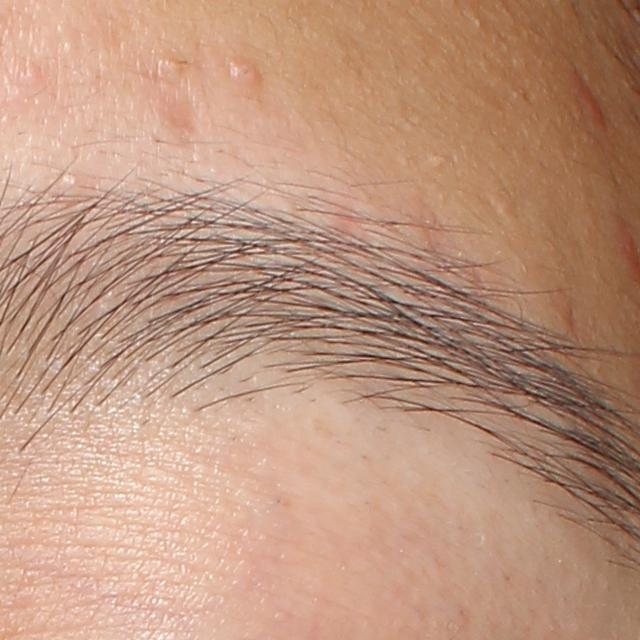comedo: (154, 48, 187, 75), (59, 170, 83, 193), (26, 63, 43, 84)
papule: (228, 57, 262, 87), (582, 88, 604, 128)
